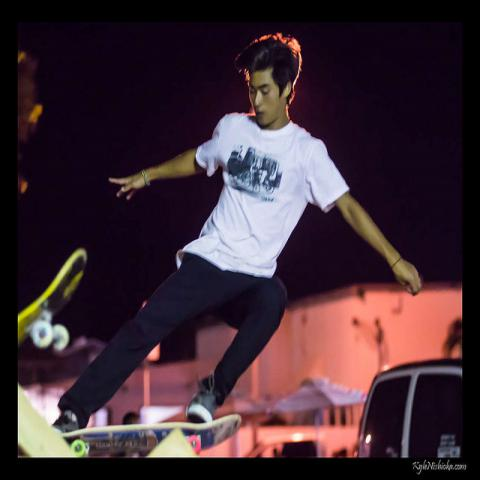car: (353, 361, 462, 461)
